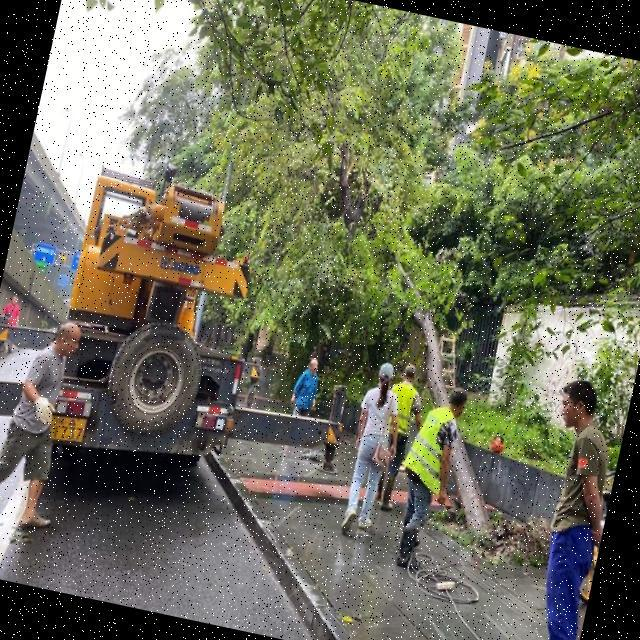fallen_object: (256, 134, 575, 557)
